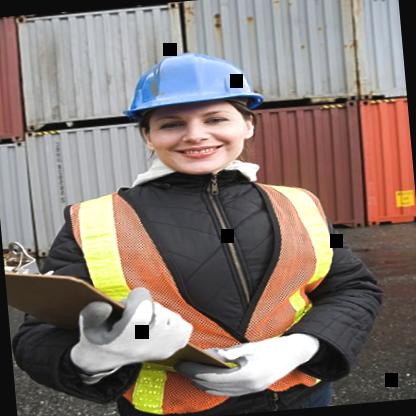helmet: (100, 31, 292, 202)
